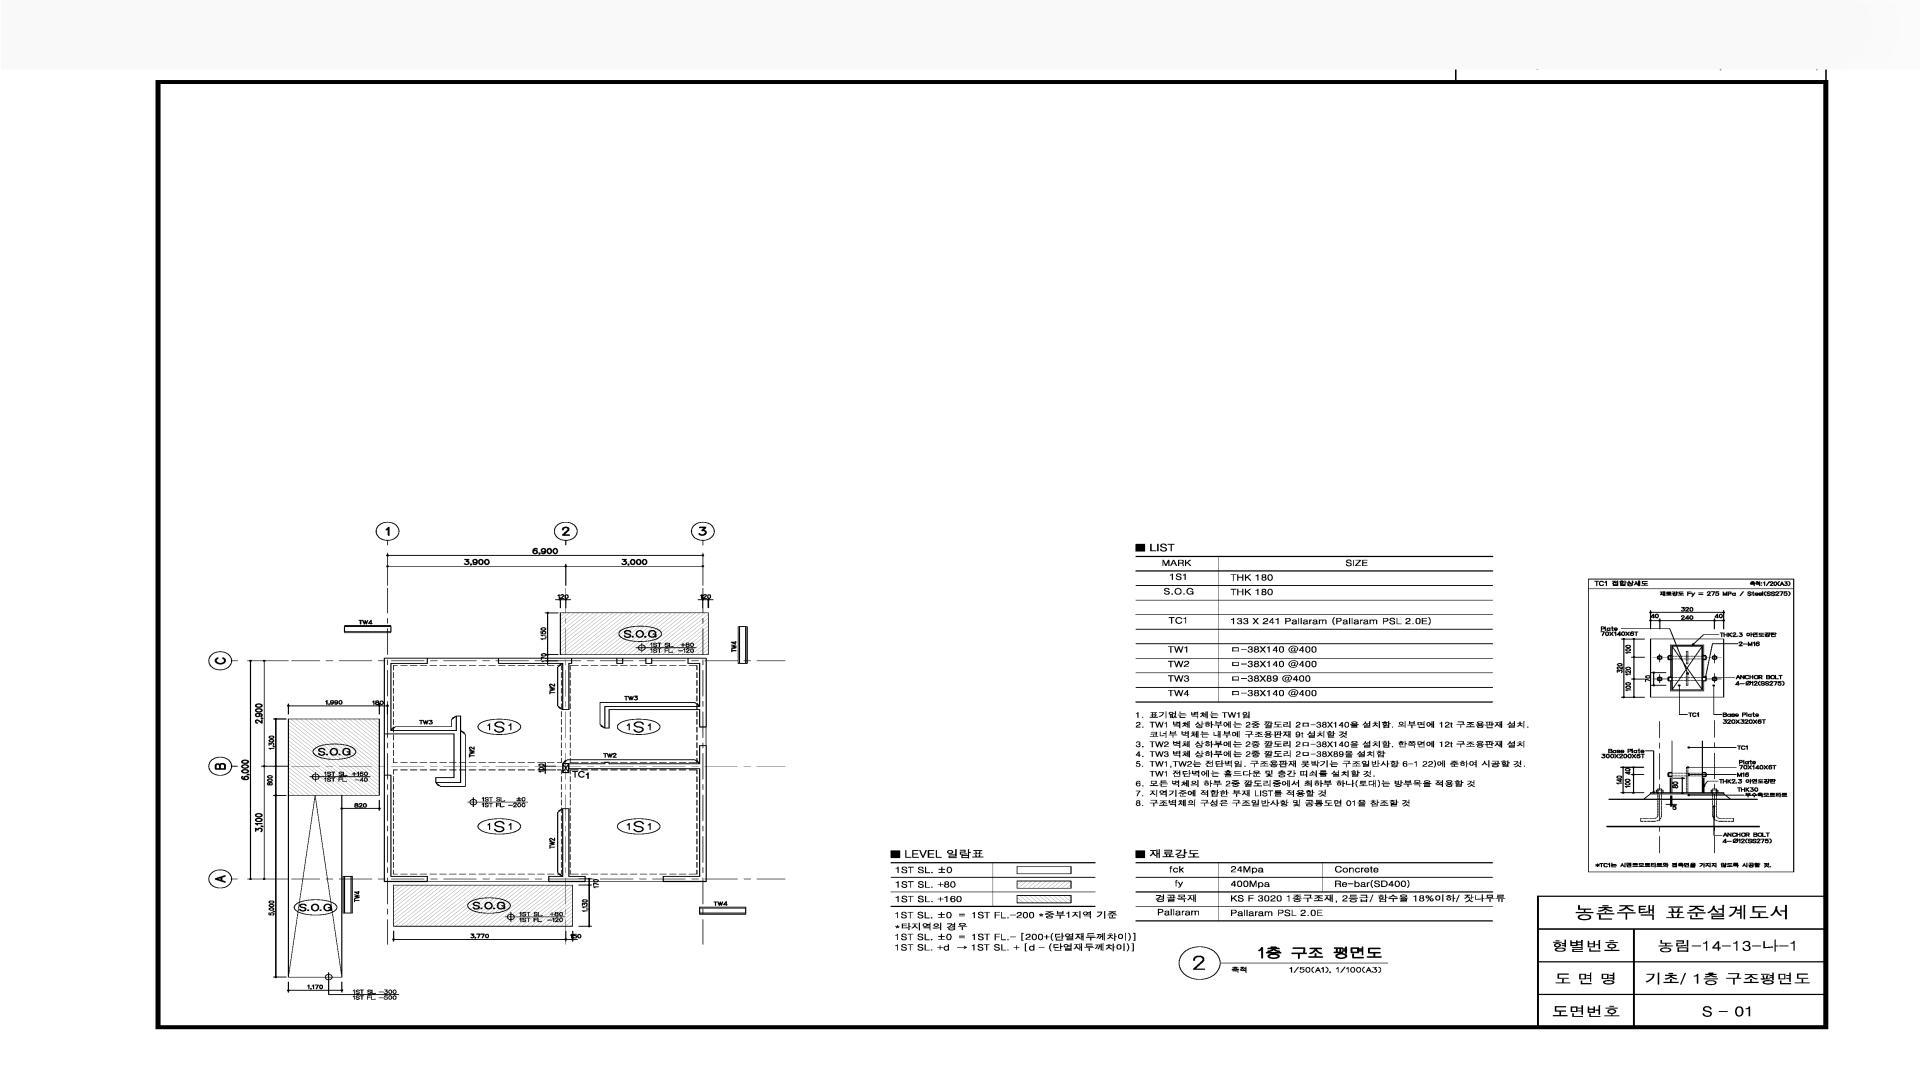wall: (568, 745, 707, 882), (384, 658, 462, 783), (604, 658, 707, 728), (384, 775, 427, 882), (497, 658, 572, 709), (549, 808, 585, 882), (600, 702, 699, 728), (435, 731, 465, 787), (392, 716, 456, 731), (563, 760, 699, 764), (556, 808, 562, 876), (556, 663, 562, 709)
